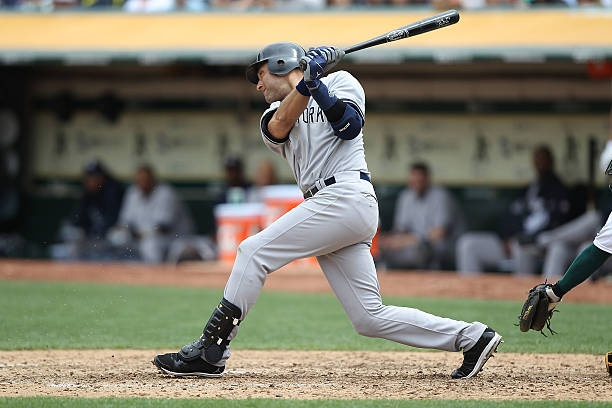bita: (337, 9, 459, 59)
